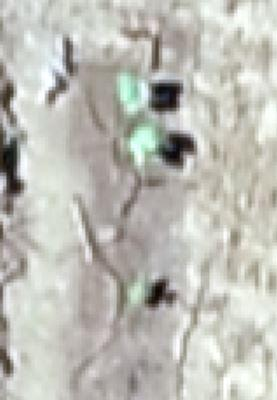cotton: (131, 127, 159, 158), (119, 76, 145, 108), (129, 284, 149, 302)
